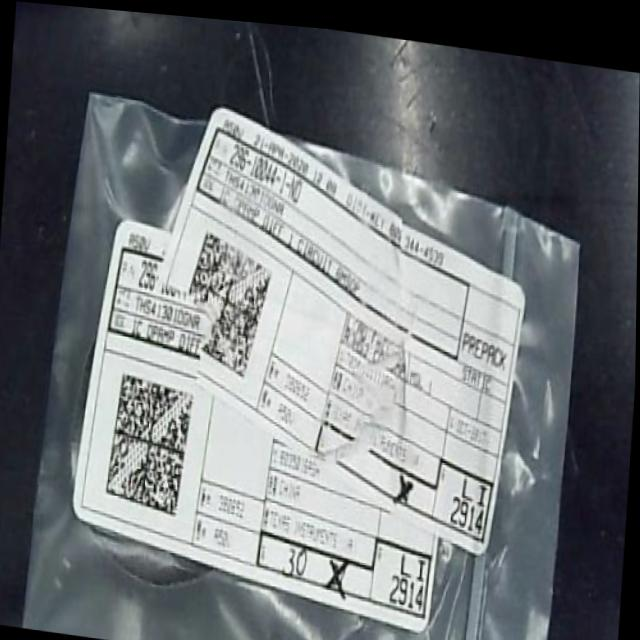datamatrix: (185, 223, 277, 379), (106, 369, 198, 517)
